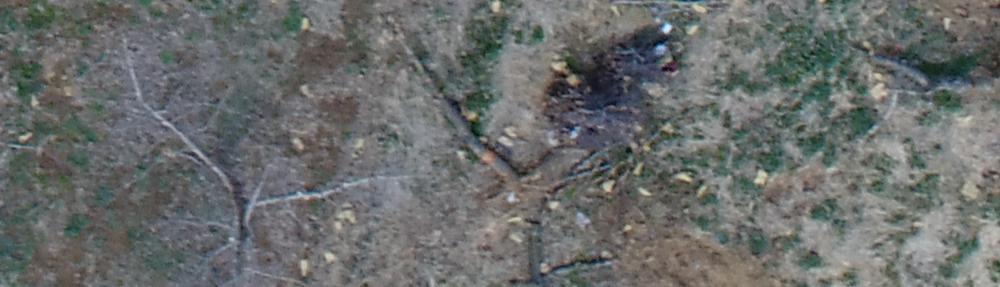apple: (102, 30, 429, 277)
